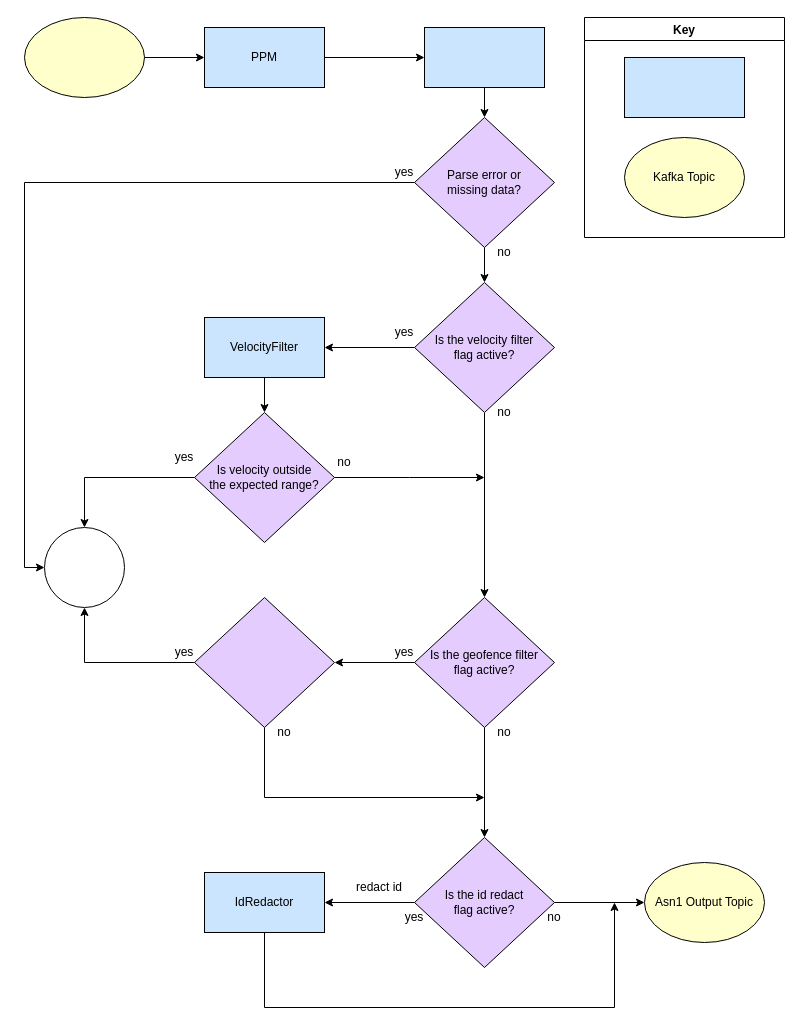
Some shapes in this 802 by 1033 pixel diagram are drawn without their labels. Each missing label, with the centre of its shape:
"Asn1 Input Topic" belongs at (x=84, y=57).
"BSMHandler" belongs at (x=484, y=57).
"C++ Class" belongs at (x=684, y=87).
"Drop message" belongs at (x=84, y=567).
"Is message outside geofence?" belongs at (x=264, y=662).
